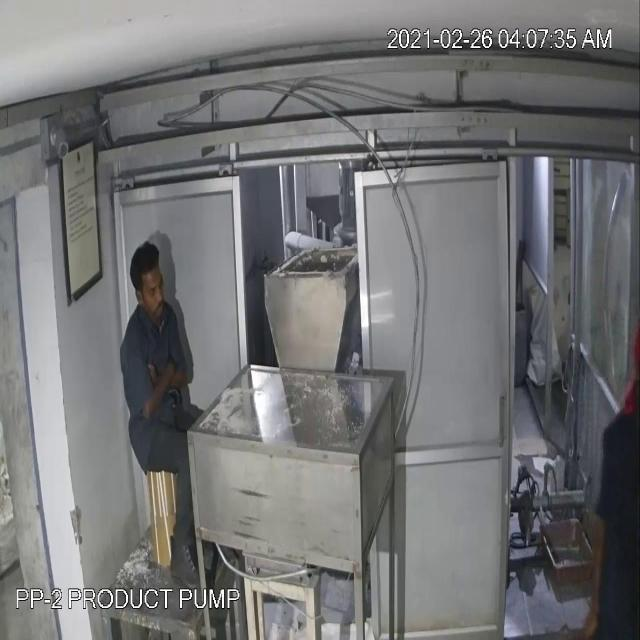no-helmet: (127, 240, 175, 294)
